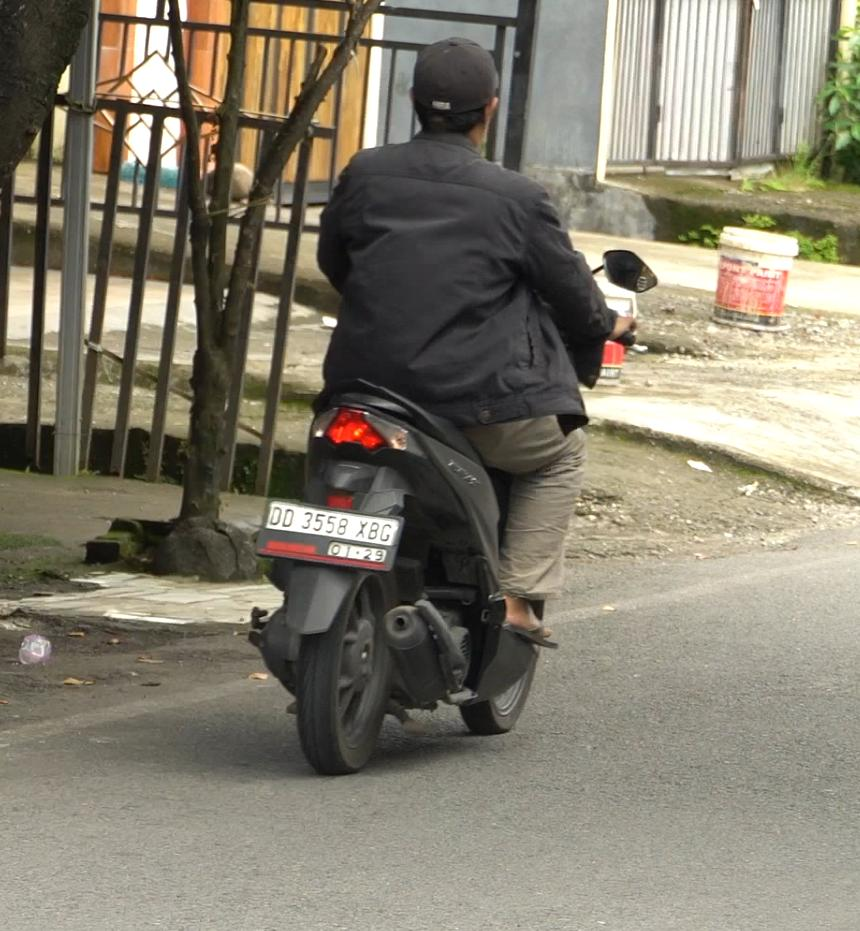number-plate: (259, 502, 399, 572)
